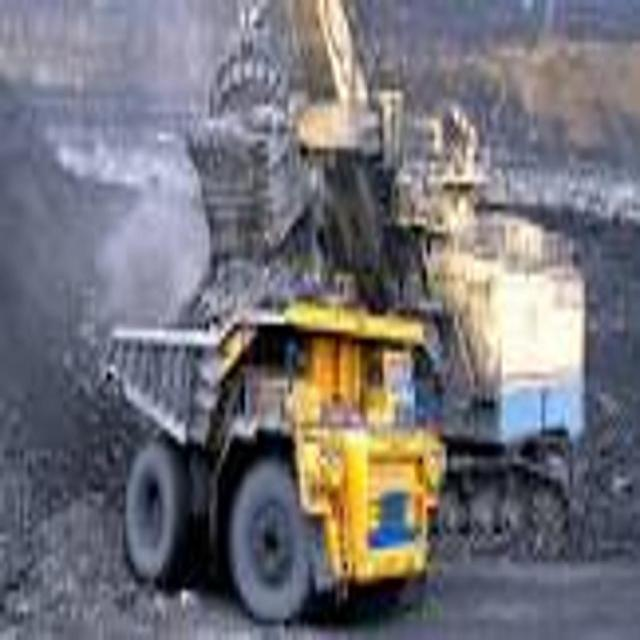dump_truck: (104, 297, 446, 640)
